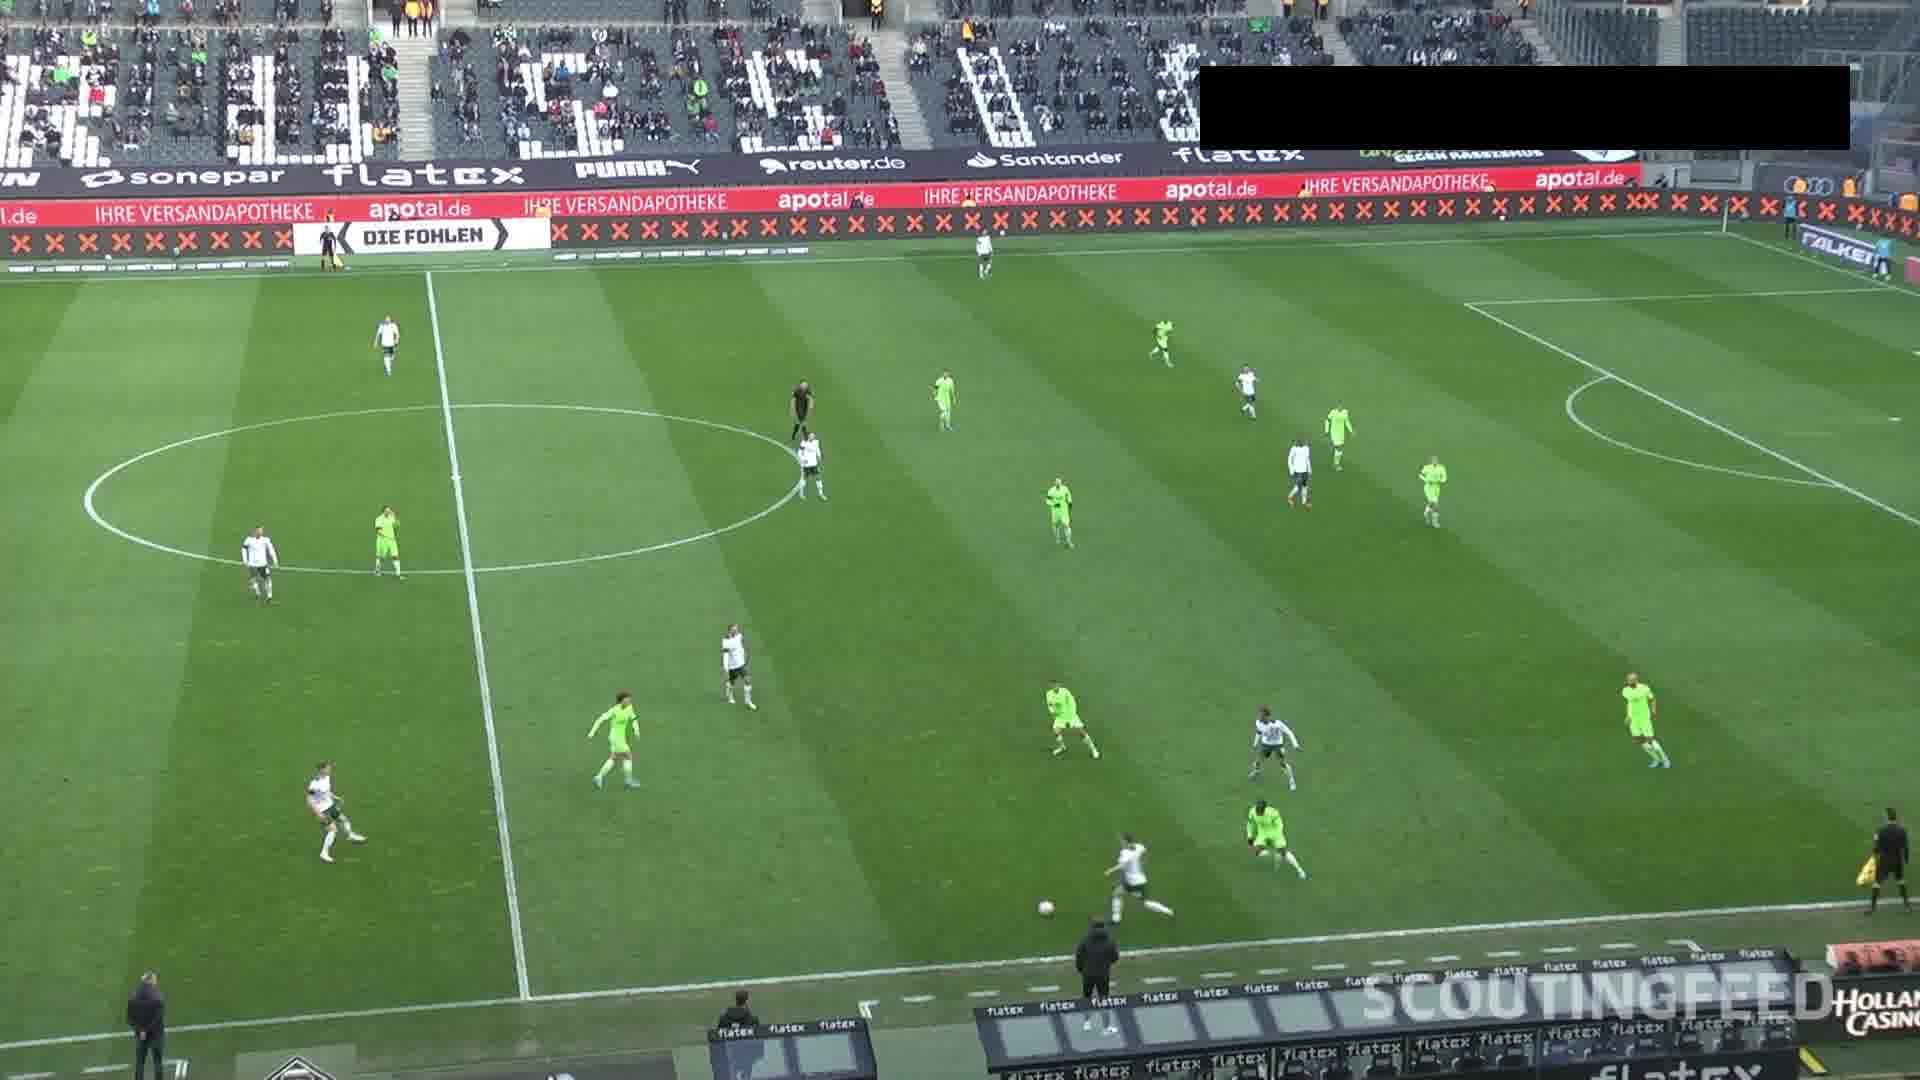football: (1036, 899, 1056, 920)
